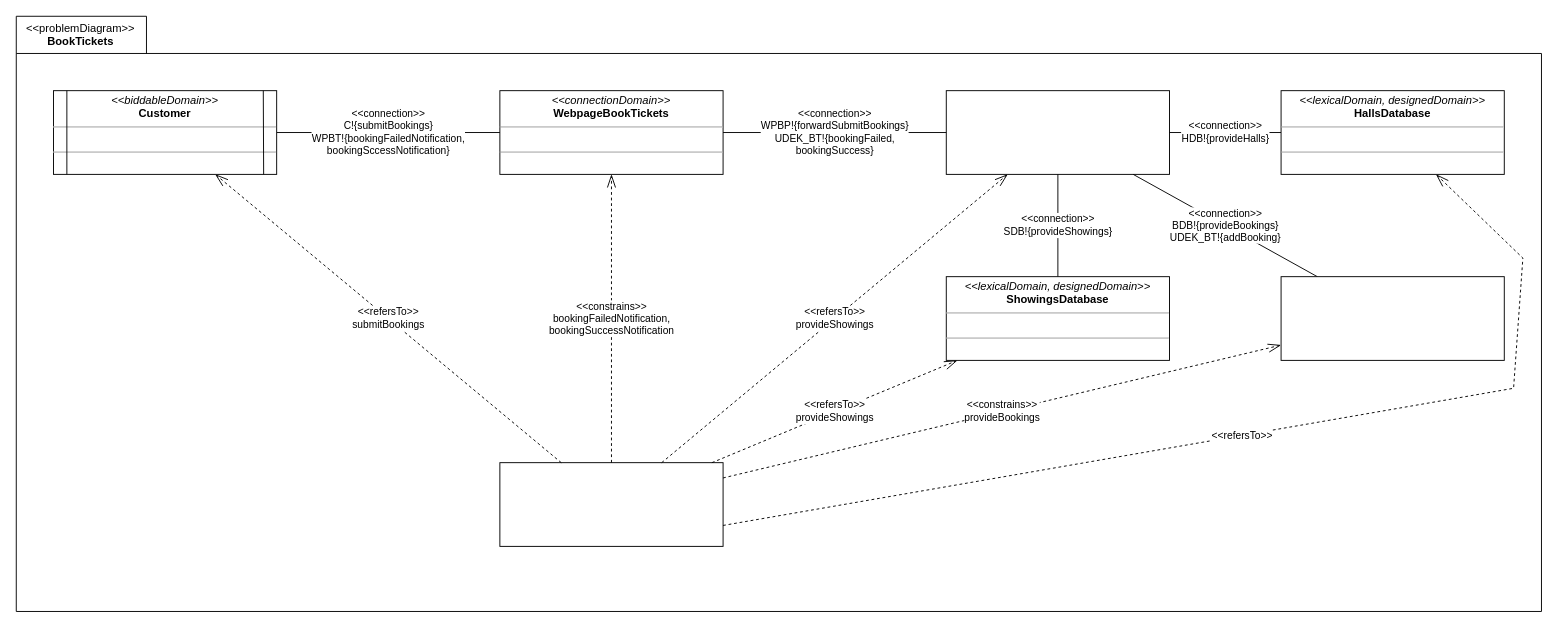
This 1558x628 diagram has some shape labels left out. Each missing label, with the box of its shape:
<<lexicalDomain, designedDomain>> BookingsDatabase: (1280, 276, 1504, 360)
<<machine>> UDEK_BookTickets: (945, 90, 1169, 174)
<<requirement>> (R05): (499, 462, 723, 546)
